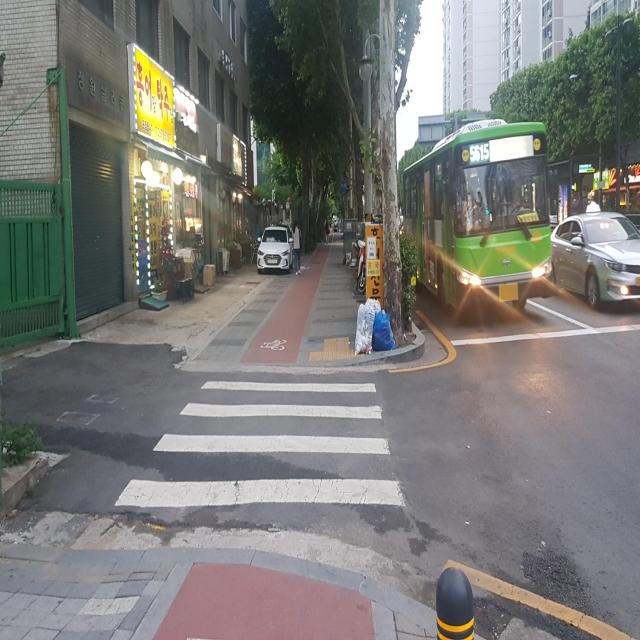횡단보도: (116, 378, 407, 510)
